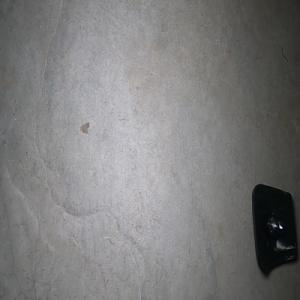LuggagePart: (251, 182, 298, 276)
